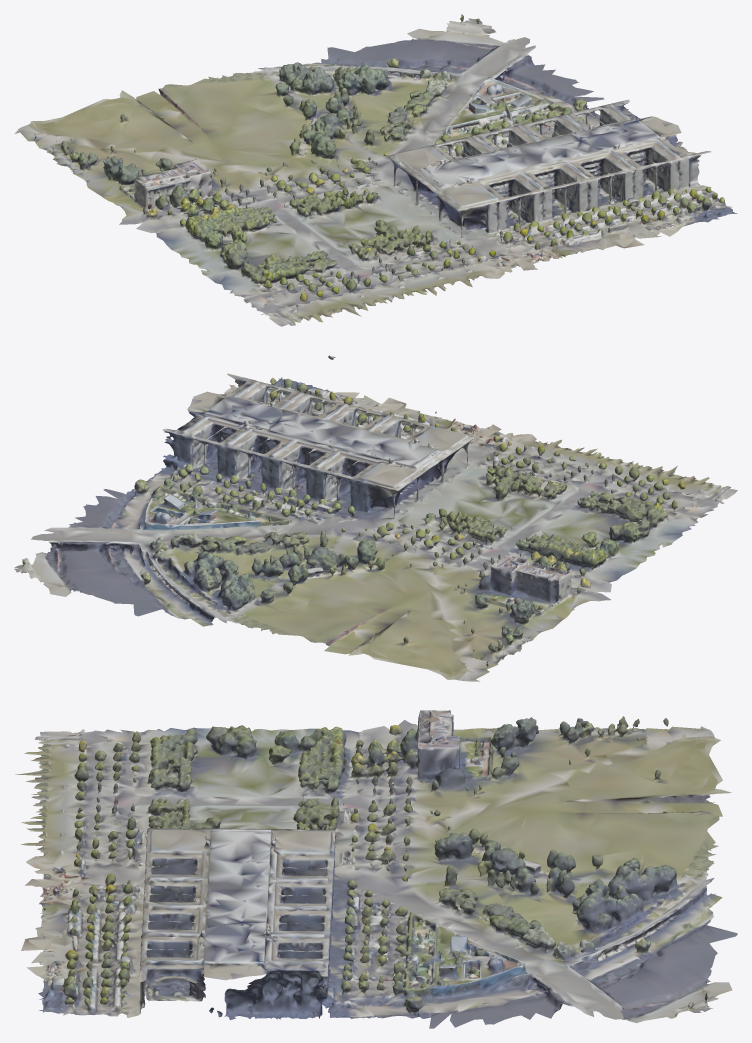
The model's file is surface-detail-3894_58200.glb.
3 renders of one model, top to bottom at view 1: azimuth 30°, elevation 25°; view 2: azimuth 150°, elevation 25°; view 3: azimuth 270°, elevation 25°, orthographic. The views are drawn at different scales.
Parts seen in each view (by area): view 1: world; view 2: world; view 3: world.
Boxes of the visible parts, x1,y1,x2,y2 form: world: (14, 14, 737, 326); world: (14, 355, 737, 681); world: (15, 710, 737, 1028).
Bounding box in the file's own units: 394 × 32.96 × 394.
